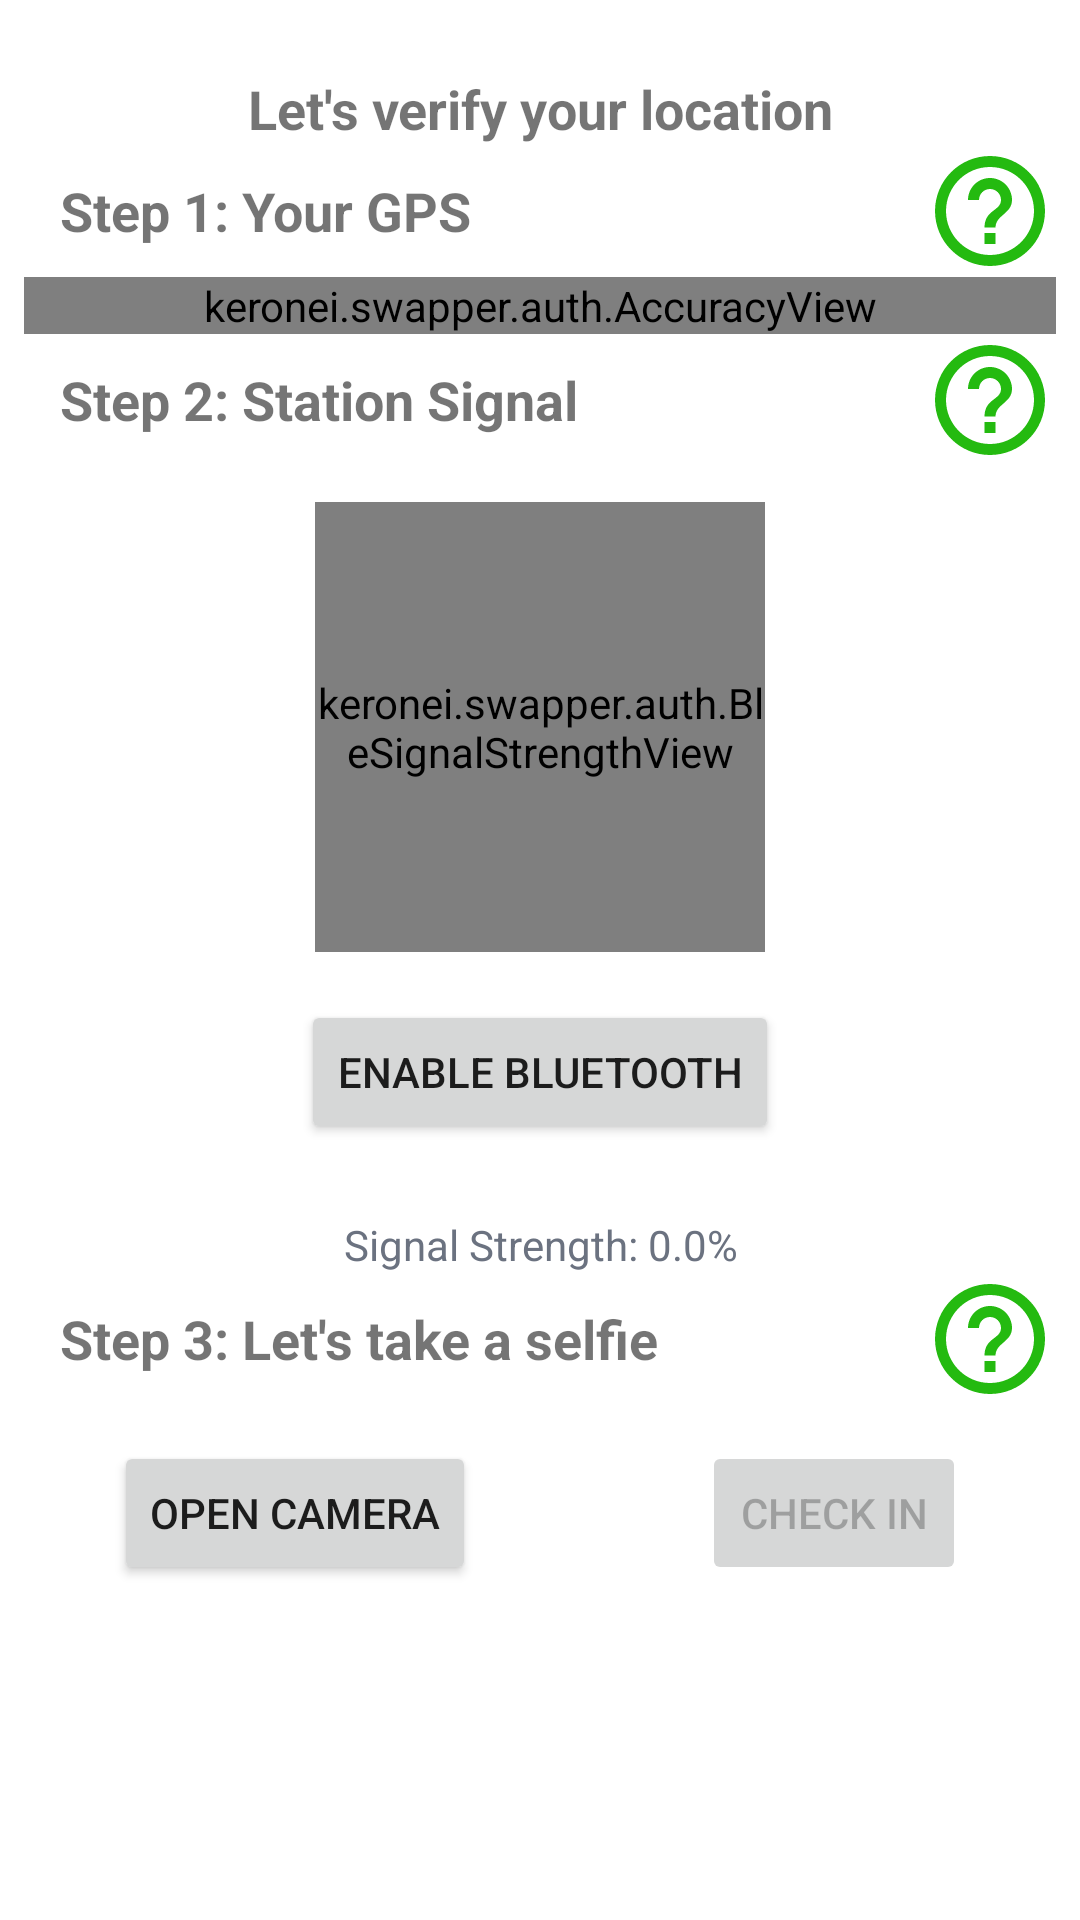

Icons on this 1080*1920 Android screen, each with the point to tap as [x,y]:
GPS guide launcher: [990,211]
Selfie guide launcher: [990,1339]
Station Signal guide launcher: [990,400]
